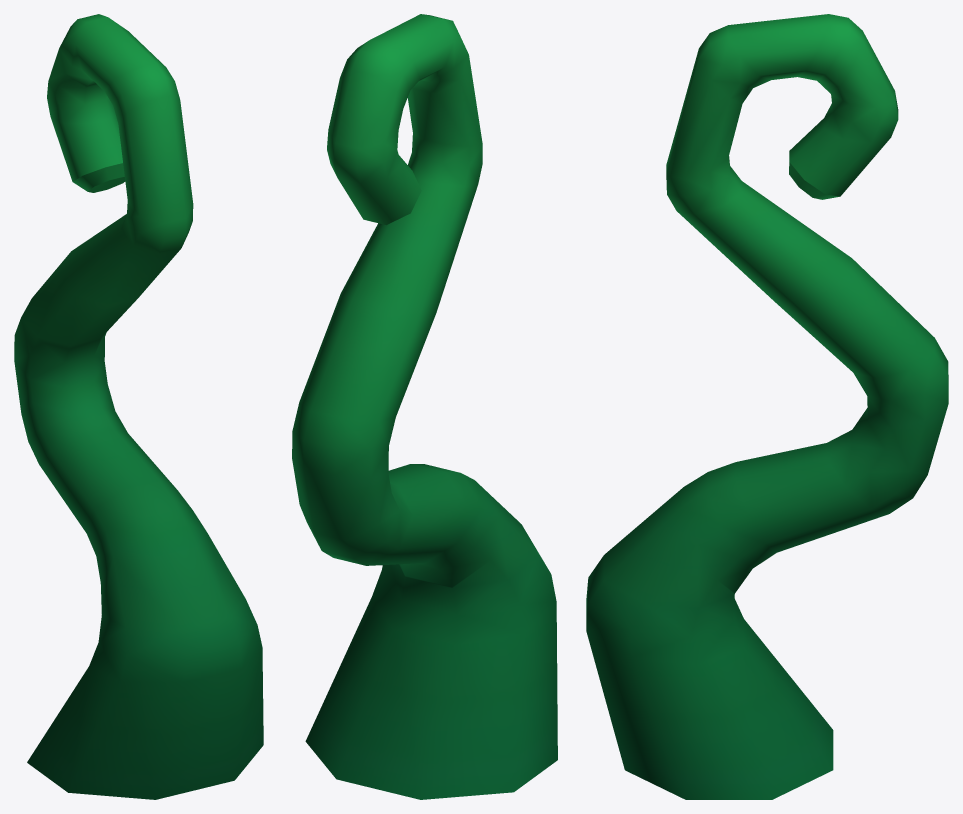
File: Vine_3_2.obj
3 views of the same model, side by side, from view 1: azimuth 30°, elevation 25°; view 2: azimuth 150°, elevation 25°; view 3: azimuth 270°, elevation 25° (orthographic). The views are drawn at different scales.
Visible parts, largest first — view 1: Vine_3_2; view 2: Vine_3_2; view 3: Vine_3_2.
Boxes of the visible parts, left/top/right/bottom form: Vine_3_2: left=14, top=14, right=263, bottom=799; Vine_3_2: left=292, top=14, right=557, bottom=799; Vine_3_2: left=586, top=14, right=948, bottom=799.
Bounding box in the file's own units: 0.227 × 0.7752 × 0.3487.
